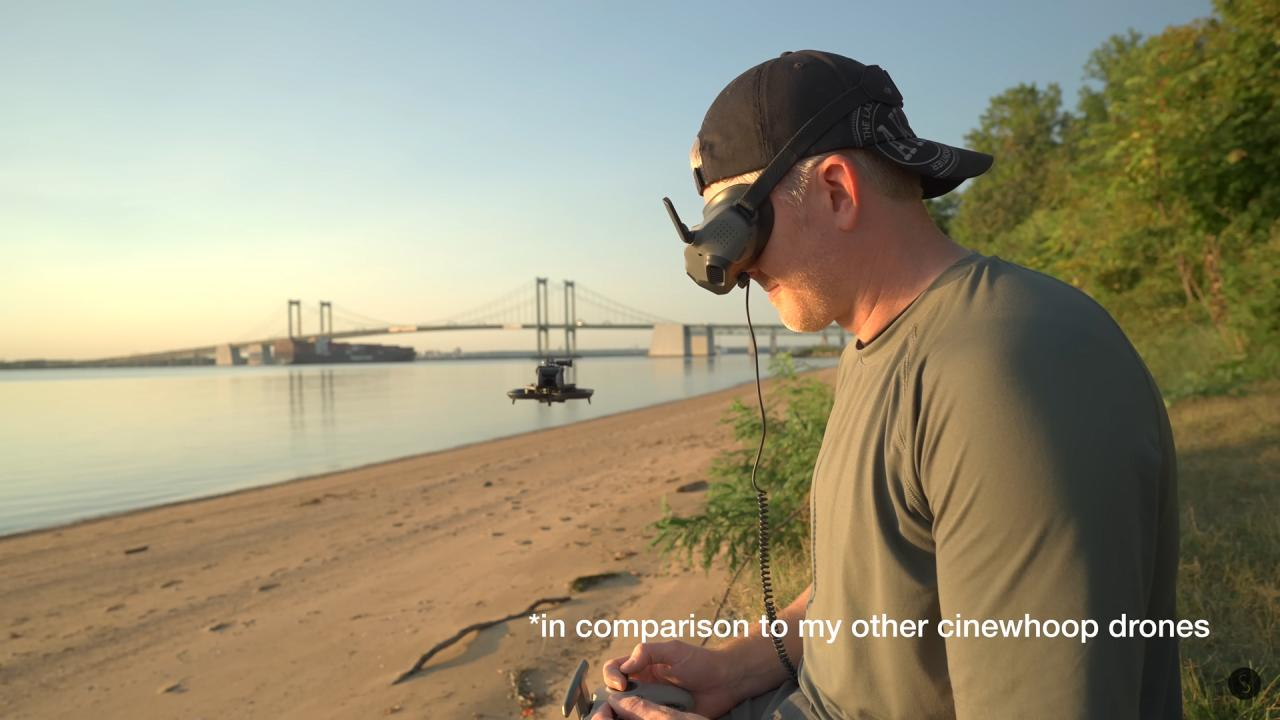Drone: (498, 346, 604, 416)
